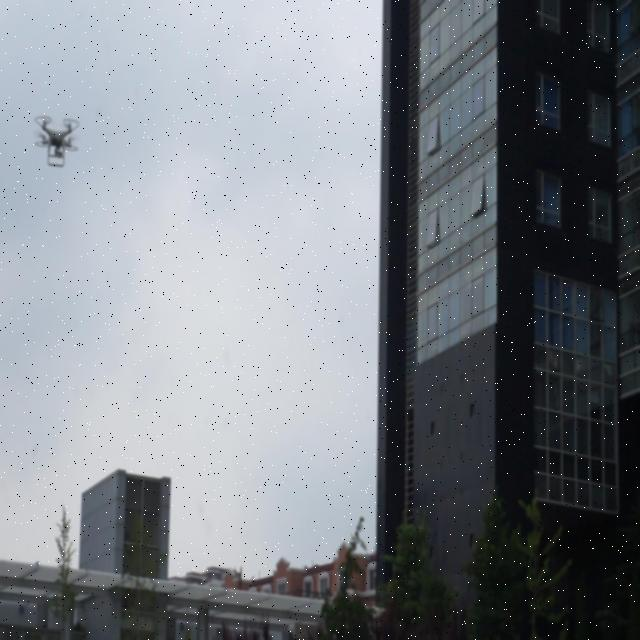UAV: (34, 116, 80, 167)
